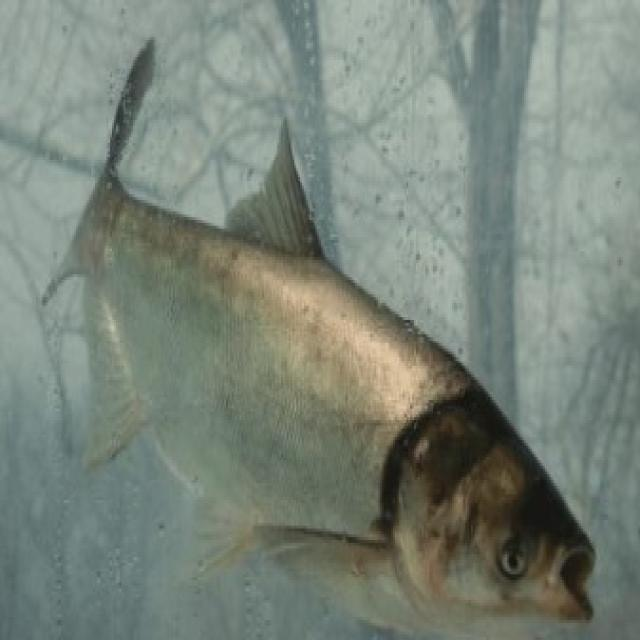Big-Head-Carp: (10, 25, 617, 634)
